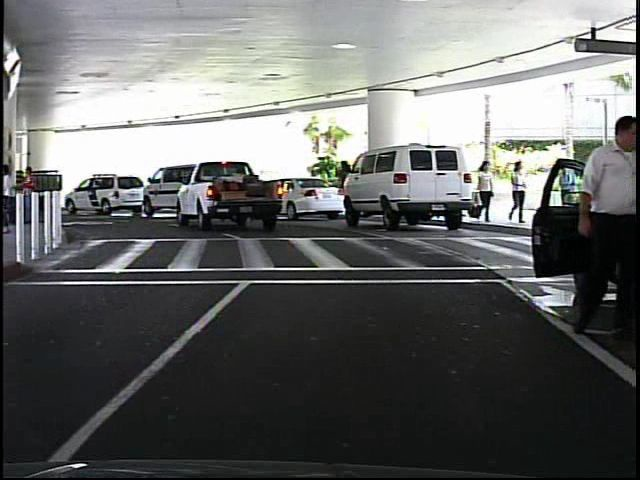person: (567, 109, 640, 339), (503, 159, 527, 227), (332, 155, 355, 218), (472, 157, 491, 226), (304, 166, 324, 211)
